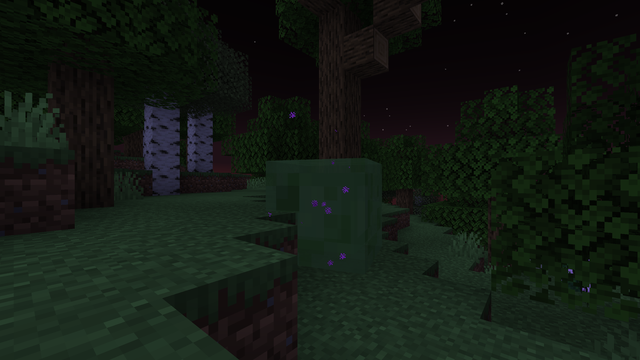slimes: (262, 152, 393, 278)
